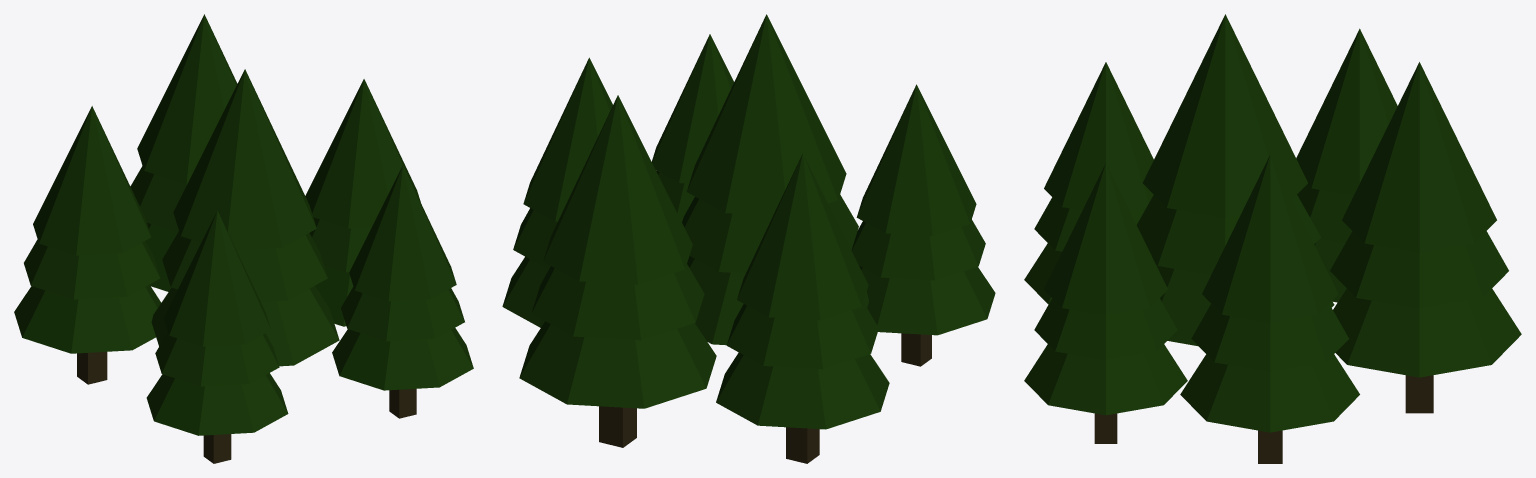
Rendered from forest1.fbx.
3 views of the same model, side by side, from view 1: azimuth 30°, elevation 25°; view 2: azimuth 150°, elevation 25°; view 3: azimuth 270°, elevation 25° (orthographic). The views are drawn at different scales.
Visible parts, largest first — view 1: Cone.006; view 2: Cone.006; view 3: Cone.006.
Part boxes in pixels (x1,y1,x2,y2): Cone.006: (14, 14, 473, 463); Cone.006: (502, 14, 995, 463); Cone.006: (1024, 14, 1521, 463).
Bounding box in the file's own units: 321 × 273 × 333.
